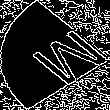M_SE: (7, 20, 103, 90)
